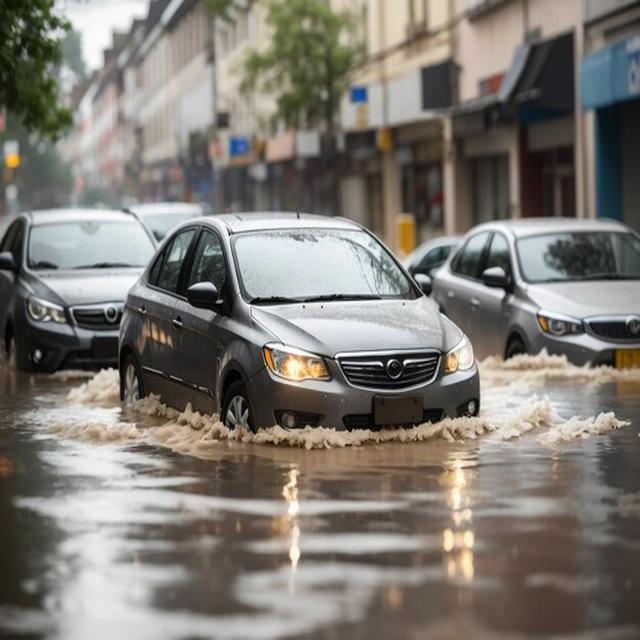Car-RiskLevel2: (114, 209, 471, 441), (436, 214, 640, 377), (6, 207, 170, 370)
